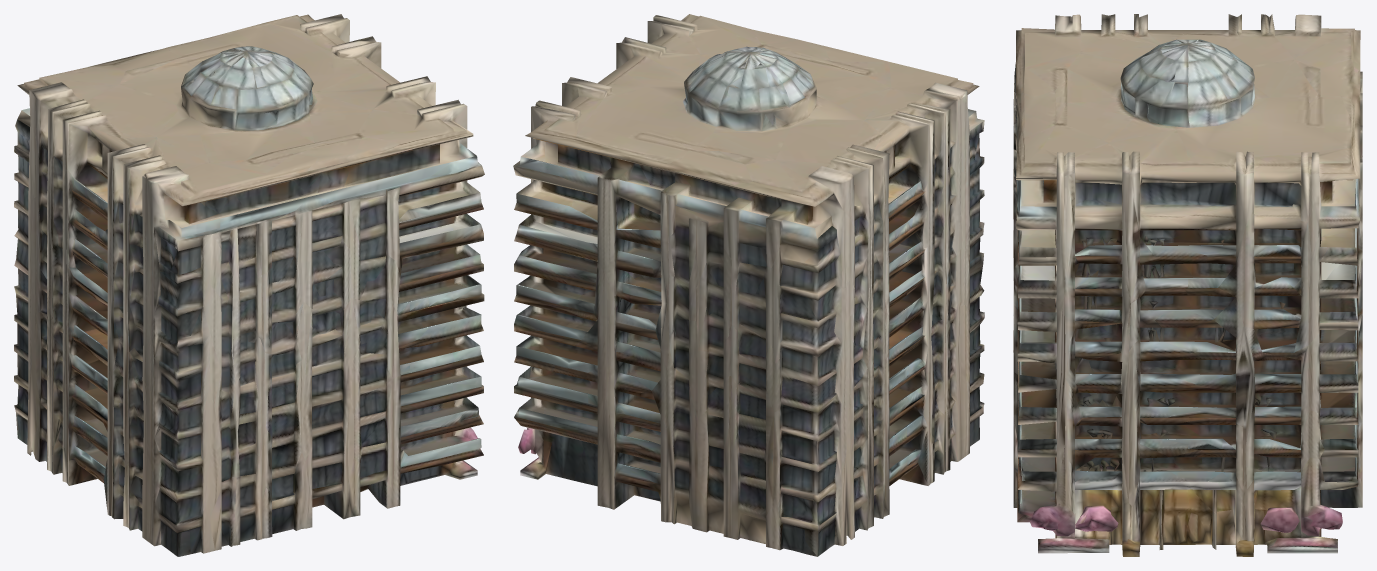
File: au_bld_residences_tower.glb
3 views of the same model, side by side, from view 1: azimuth 30°, elevation 25°; view 2: azimuth 150°, elevation 25°; view 3: azimuth 270°, elevation 25° (orthographic). The views are drawn at different scales.
Parts seen in each view (by area): view 1: tripo_node_3bf86e4b-d7ad-4126-8133-aca0abe534b0; view 2: tripo_node_3bf86e4b-d7ad-4126-8133-aca0abe534b0; view 3: tripo_node_3bf86e4b-d7ad-4126-8133-aca0abe534b0.
Part boxes in pixels (x1,y1,x2,y2): tripo_node_3bf86e4b-d7ad-4126-8133-aca0abe534b0: (14,14,484,556); tripo_node_3bf86e4b-d7ad-4126-8133-aca0abe534b0: (513,14,984,556); tripo_node_3bf86e4b-d7ad-4126-8133-aca0abe534b0: (1013,14,1362,556).
Size of the model in its own units: 0.8124 by 0.9804 by 0.7253.
Materials: 1 (1 with a texture image).
